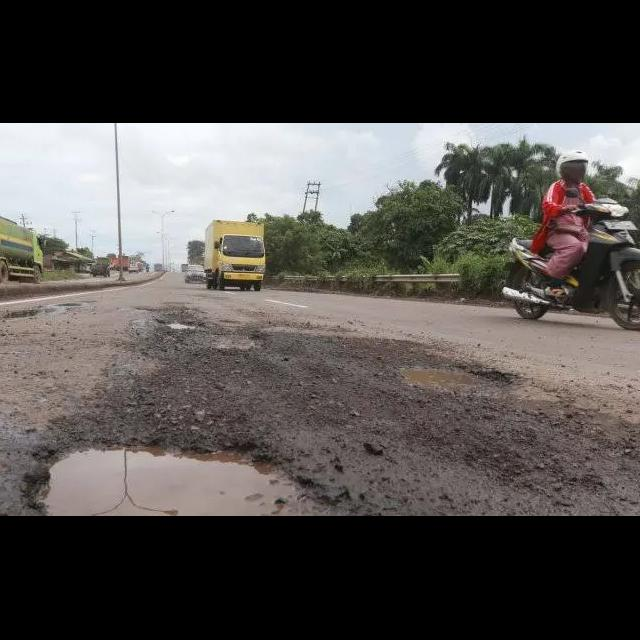lubang_kecil: (7, 414, 345, 516), (374, 344, 511, 411), (132, 297, 222, 338)
